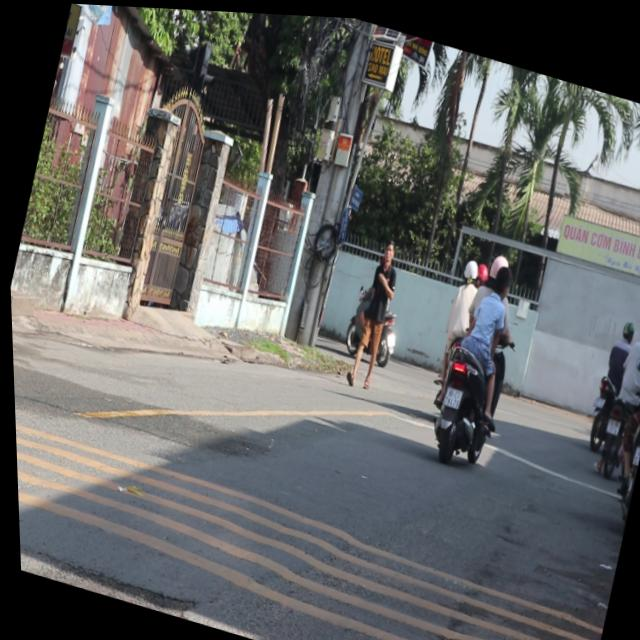helmet: (483, 244, 507, 275)
licenseplate: (408, 232, 535, 468), (596, 293, 640, 522)
motorcyclist: (487, 261, 511, 293)
nohelmet: (437, 378, 460, 403), (626, 434, 640, 456)
